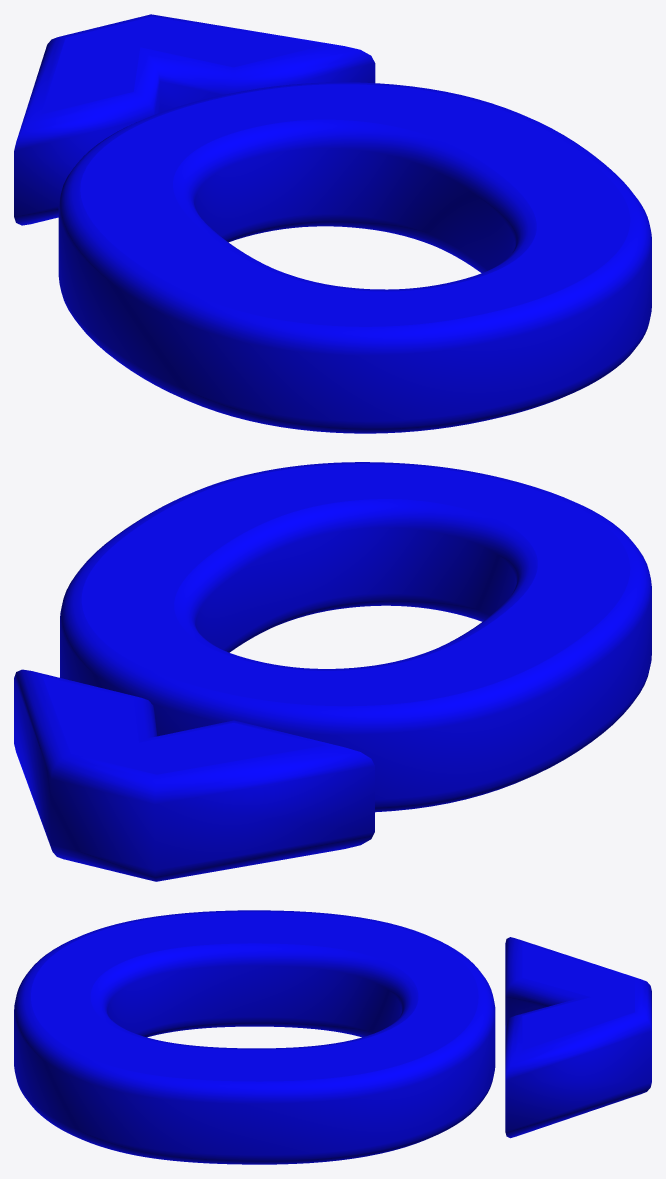
3 renders of one model, top to bottom at view 1: azimuth 30°, elevation 25°; view 2: azimuth 150°, elevation 25°; view 3: azimuth 270°, elevation 25°, orthographic. The views are drawn at different scales.
Visible parts, largest first — view 1: 244; view 2: 244; view 3: 244.
Part boxes in pixels (x1=…): 244: x1=14, y1=14, x2=651, y2=433; 244: x1=14, y1=462, x2=651, y2=881; 244: x1=14, y1=910, x2=651, y2=1164.
Bounding box in the file's own units: 0.7735 × 0.16 × 1.13.
